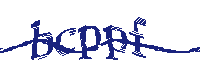b: (30, 20, 54, 60)
c: (55, 26, 76, 58)
f: (130, 15, 148, 60)
p: (77, 22, 101, 62), (103, 21, 127, 61)
